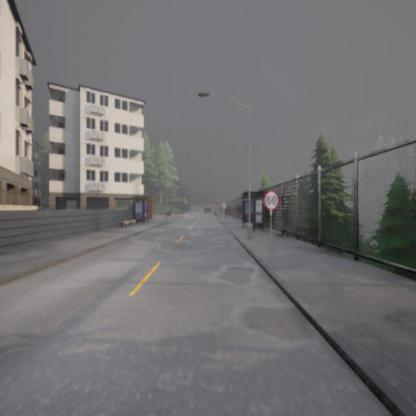traffic_sign_60: (264, 191, 279, 209)
